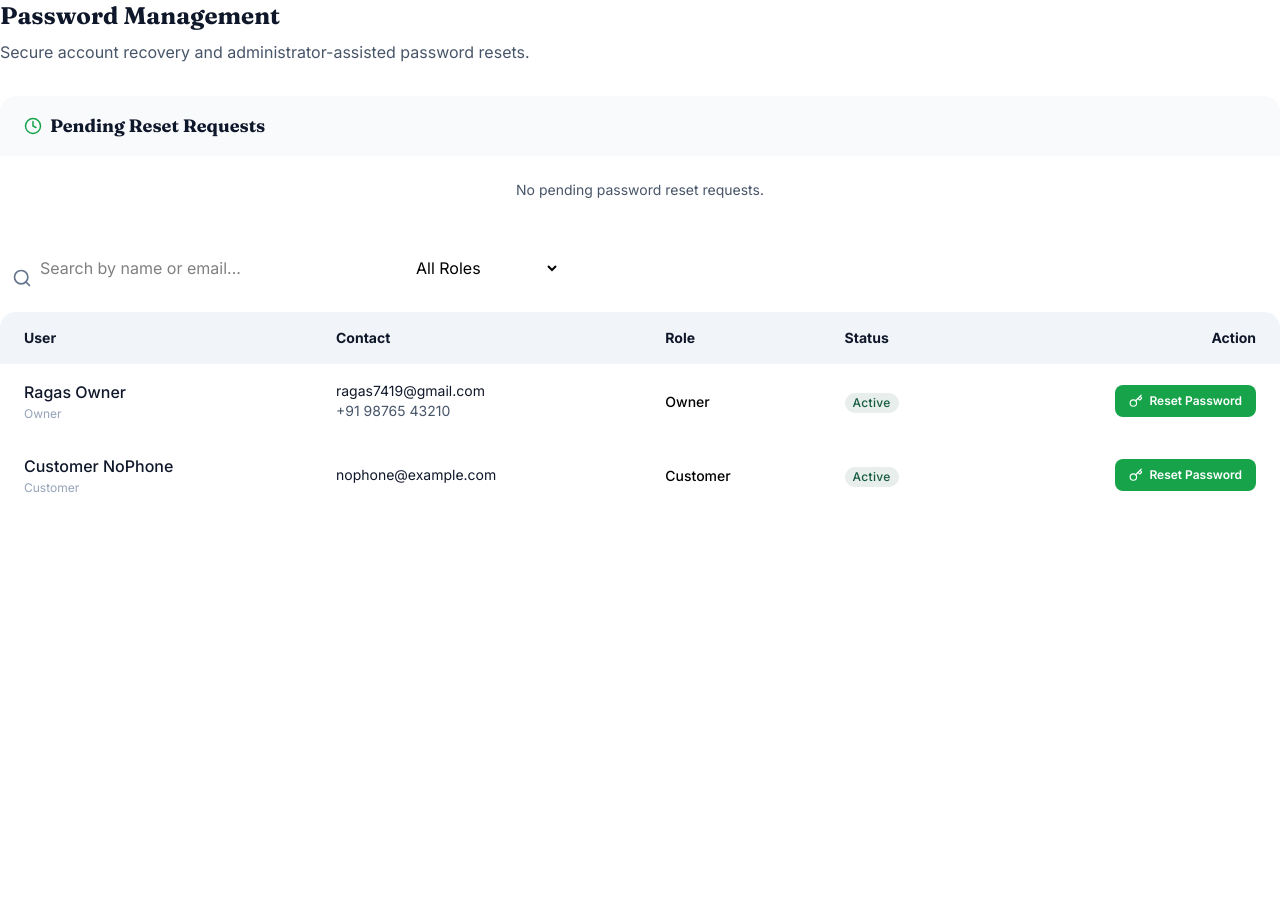
Test case: AdminPasswords component › opens Reset Password modal with user details and default method "link"
Click the button "Reset Password" in the row of "Ragas Owner": {"x": 1186, "y": 401} [1115,385,1256,417]
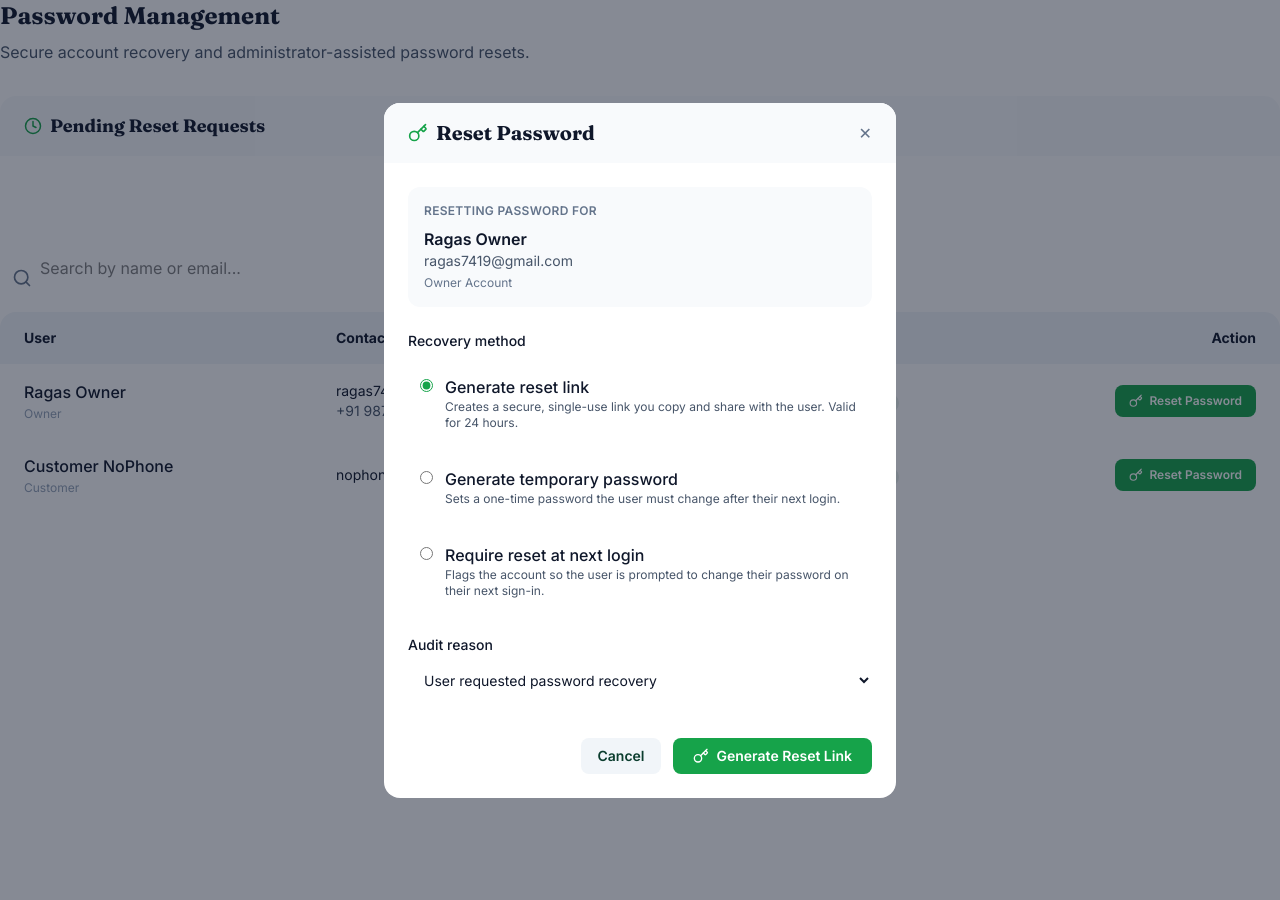
Expected: the heading "Reset Password" is shown, [408,118,595,146]
Expected: the button "Generate Reset Link" is shown, [672,738,872,774]
